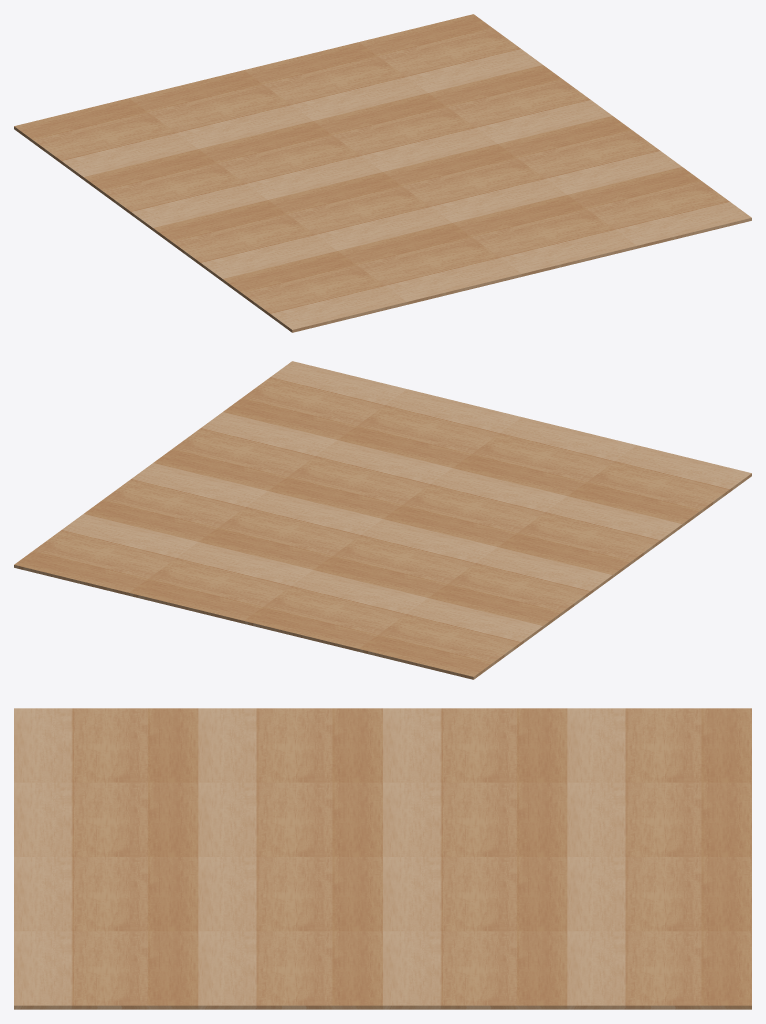
The model's file is ClassroomFloor 1.fbx.
3 renders of one model, top to bottom at view 1: azimuth 30°, elevation 25°; view 2: azimuth 150°, elevation 25°; view 3: azimuth 270°, elevation 25°, orthographic. The views are drawn at different scales.
Parts seen in each view (by area): view 1: ClassRoomFloor; view 2: ClassRoomFloor; view 3: ClassRoomFloor.
Boxes of the visible parts, bbox=[...] form: ClassRoomFloor: bbox=[14, 14, 751, 332]; ClassRoomFloor: bbox=[14, 361, 751, 679]; ClassRoomFloor: bbox=[14, 708, 751, 1009].
Bounding box in the file's own units: 1413 × 8.71 × 1482.
